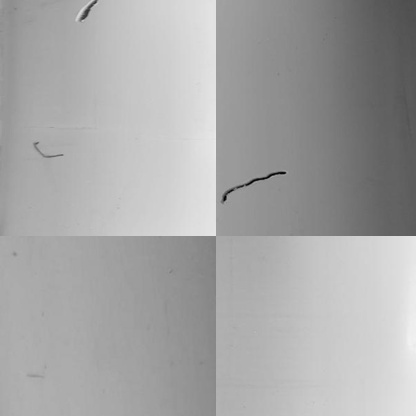fengxi: (222, 168, 288, 206), (28, 139, 65, 158), (74, 1, 98, 23)
